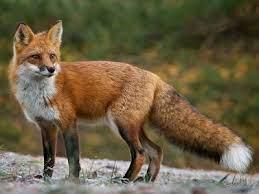fox: (3, 6, 257, 194)
